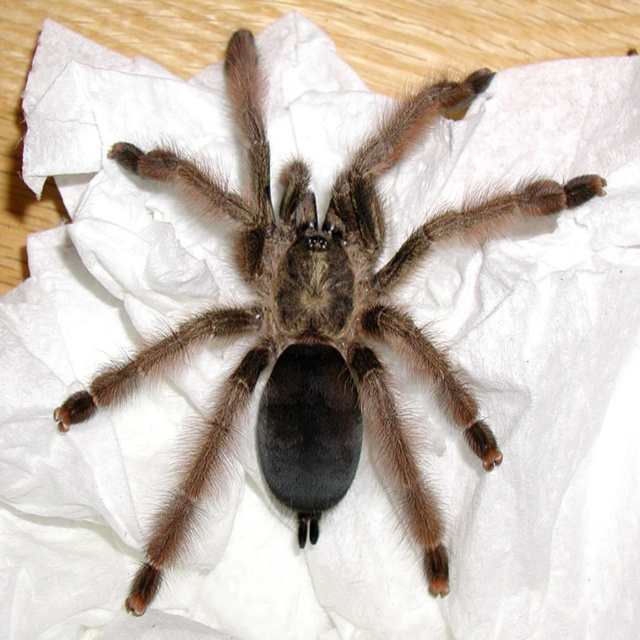Spider: (53, 28, 607, 617)
